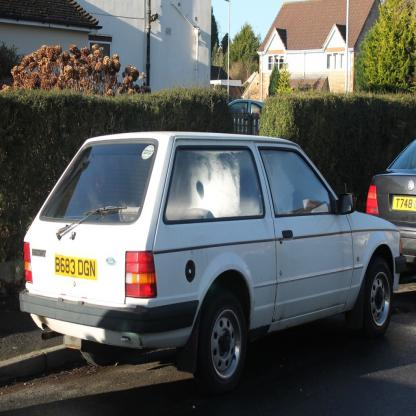Car: (20, 130, 411, 396), (366, 132, 416, 265)
